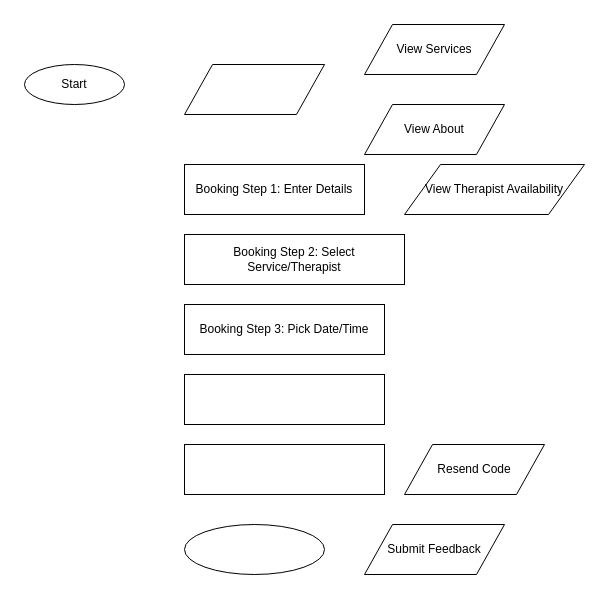
This 602x592 diagram has some shape labels left out. Each missing label, with the centre of its shape:
Booking Step 4: Confirm Details: the point at 284,399
Booking Step 5: Verification Code: the point at 284,469
Booking Success: the point at 254,549
Landing Page: the point at 254,89
